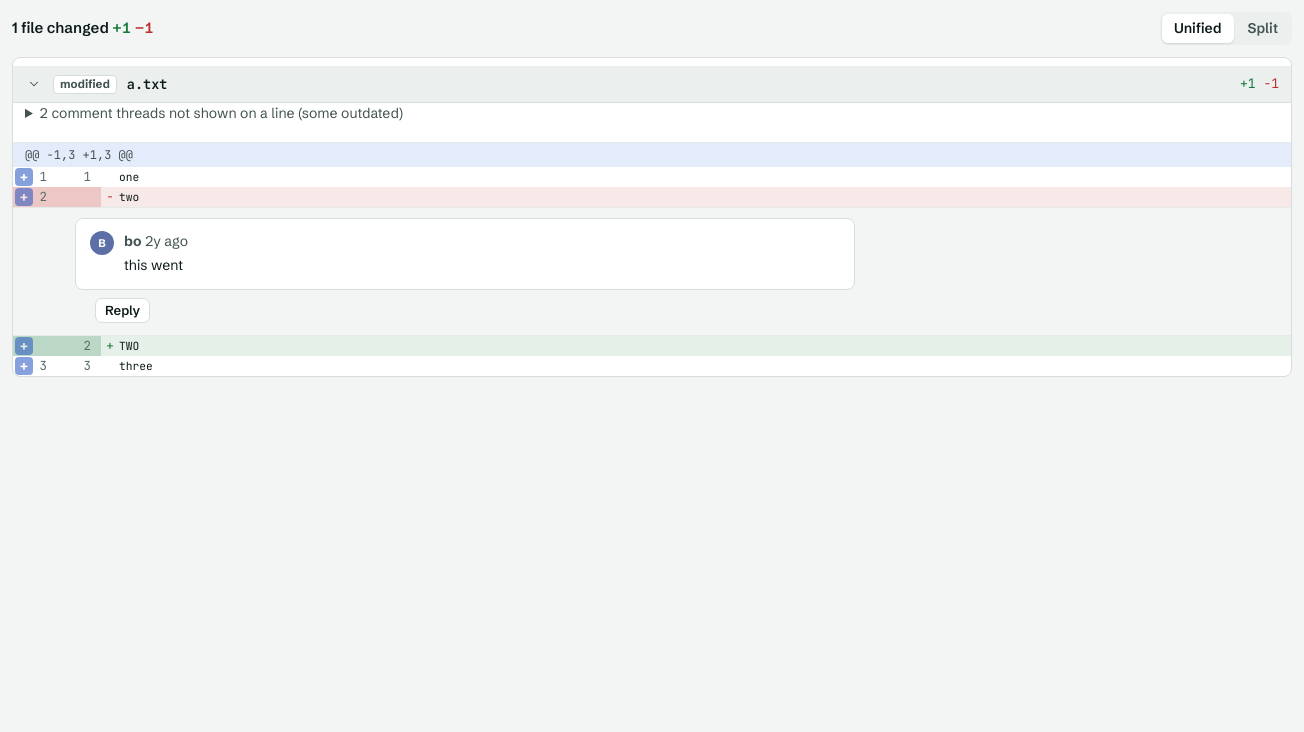
Test: comments on diff lines › matches the old side to removed lines and keeps outdated or off-diff threads in a group under the file header
The width and height of the screenshot is (1304, 732).
Click the heading "2 comment threads not shown on a line (some outdated)": (221, 113) [40, 104, 403, 122]
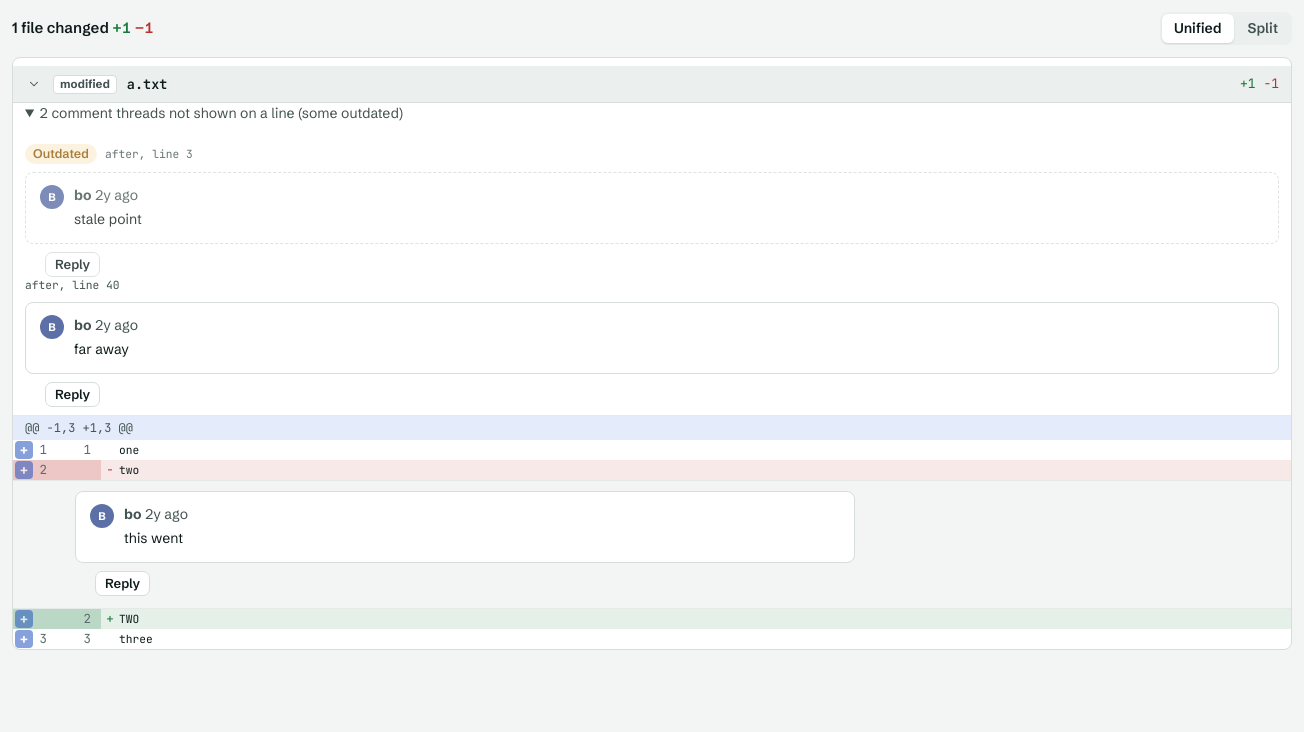
Now the text "Outdated" is shown, box [25, 144, 97, 164]
Now the text "after, line 3" is shown, box [105, 146, 193, 163]
Now the element showing "after, line 40 B bo 2y ago far away Reply" is shown, box [25, 277, 1279, 407]
